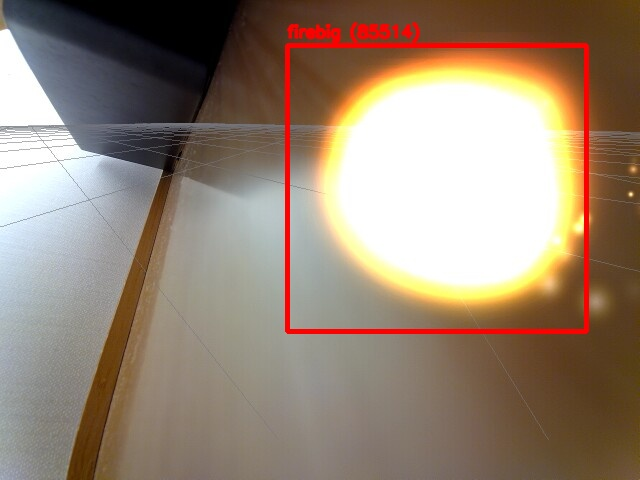firebig: (287, 45, 586, 331)
